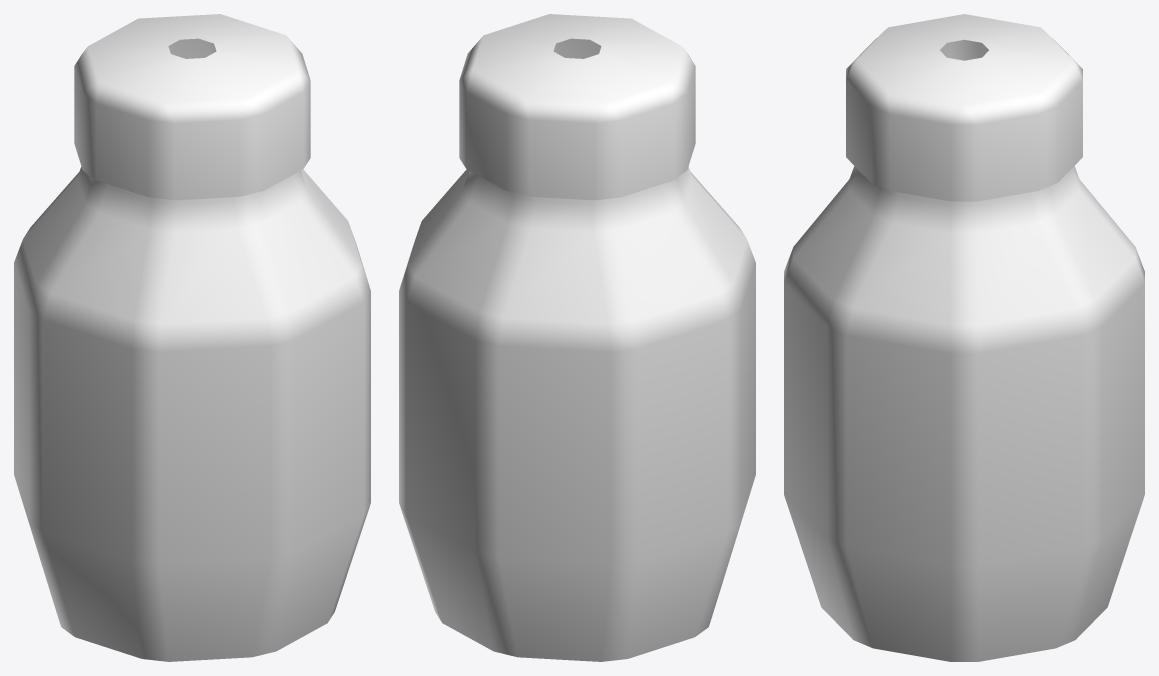
File: jar.glb
The picture shows the model from 3 angles, left to right: view 1: azimuth 30°, elevation 25°; view 2: azimuth 150°, elevation 25°; view 3: azimuth 270°, elevation 25°; orthographic projection.
Visible parts, largest first — view 1: Jar; view 2: Jar; view 3: Jar.
Part boxes in pixels (x1,y1,x2,y2): Jar: [14, 14, 370, 661]; Jar: [399, 14, 755, 661]; Jar: [784, 14, 1144, 661].
Bounding box in the file's own units: 0.2908 × 0.49 × 0.2908.
1 material, 1 textured.
